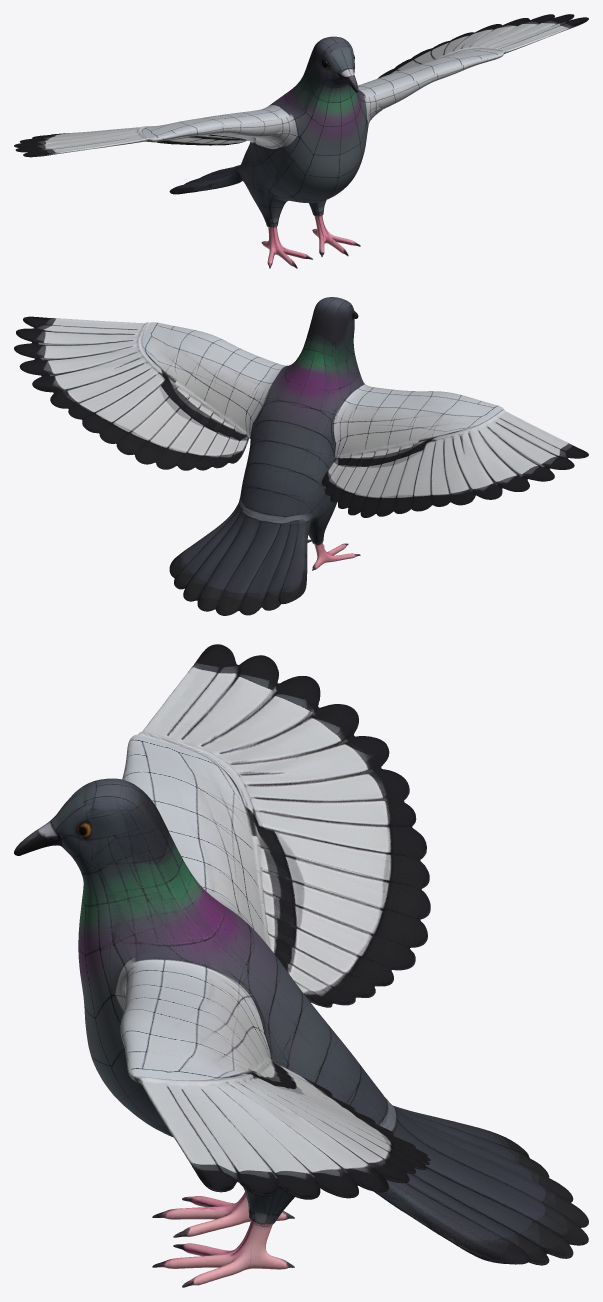
Rendered from PigeonV2_clean.fbx.
3 renders of one model, top to bottom at view 1: azimuth 30°, elevation 25°; view 2: azimuth 150°, elevation 25°; view 3: azimuth 270°, elevation 25°, orthographic. The views are drawn at different scales.
Visible parts, largest first — view 1: Pigeon; view 2: Pigeon; view 3: Pigeon.
Boxes of the visible parts, x1,y1,x2,y2 form: Pigeon: (14,14,588,268); Pigeon: (14,297,588,615); Pigeon: (14,644,588,1287).
Bounding box in the file's own units: 0.7639 × 0.3 × 0.3394.
Materials: 1 (1 with a texture image).
